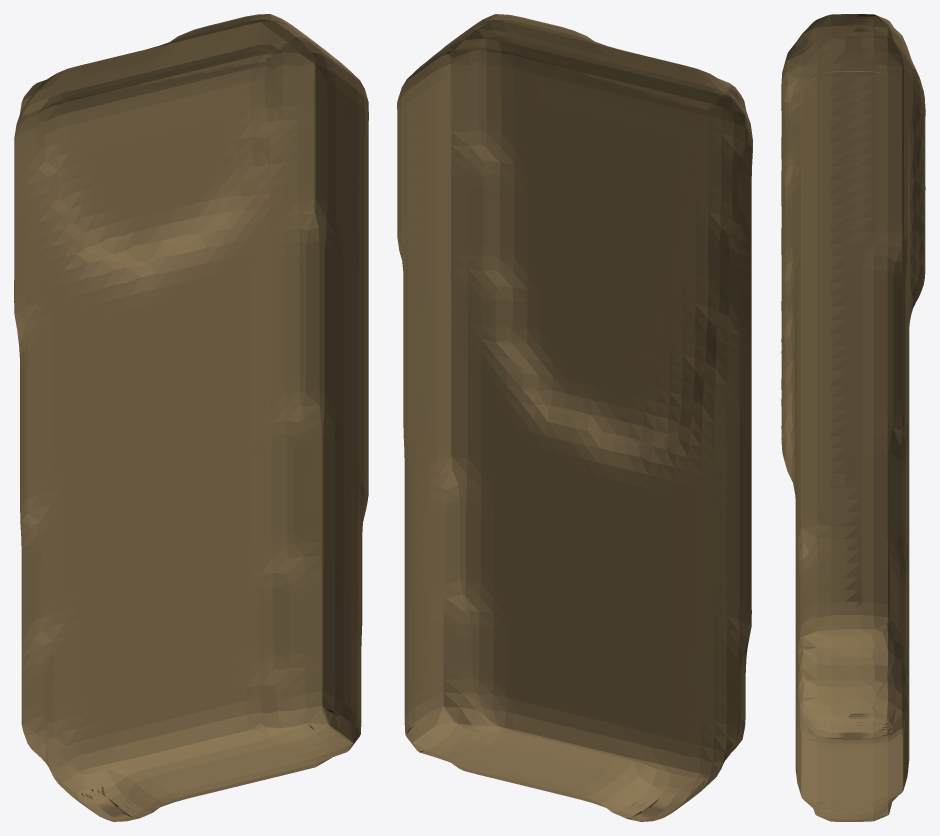
3 views of the same model, side by side, from view 1: azimuth 30°, elevation 25°; view 2: azimuth 150°, elevation 25°; view 3: azimuth 270°, elevation 25° (orthographic). The views are drawn at different scales.
Parts seen in each view (by area): view 1: model; view 2: model; view 3: model.
Boxes of the visible parts, x1,y1,x2,y2 form: model: (14,14,368,821); model: (397,14,752,821); model: (781,14,925,821).
Size of the model in its own units: 0.4379 by 1 by 0.1844.
1 material, 1 textured.
